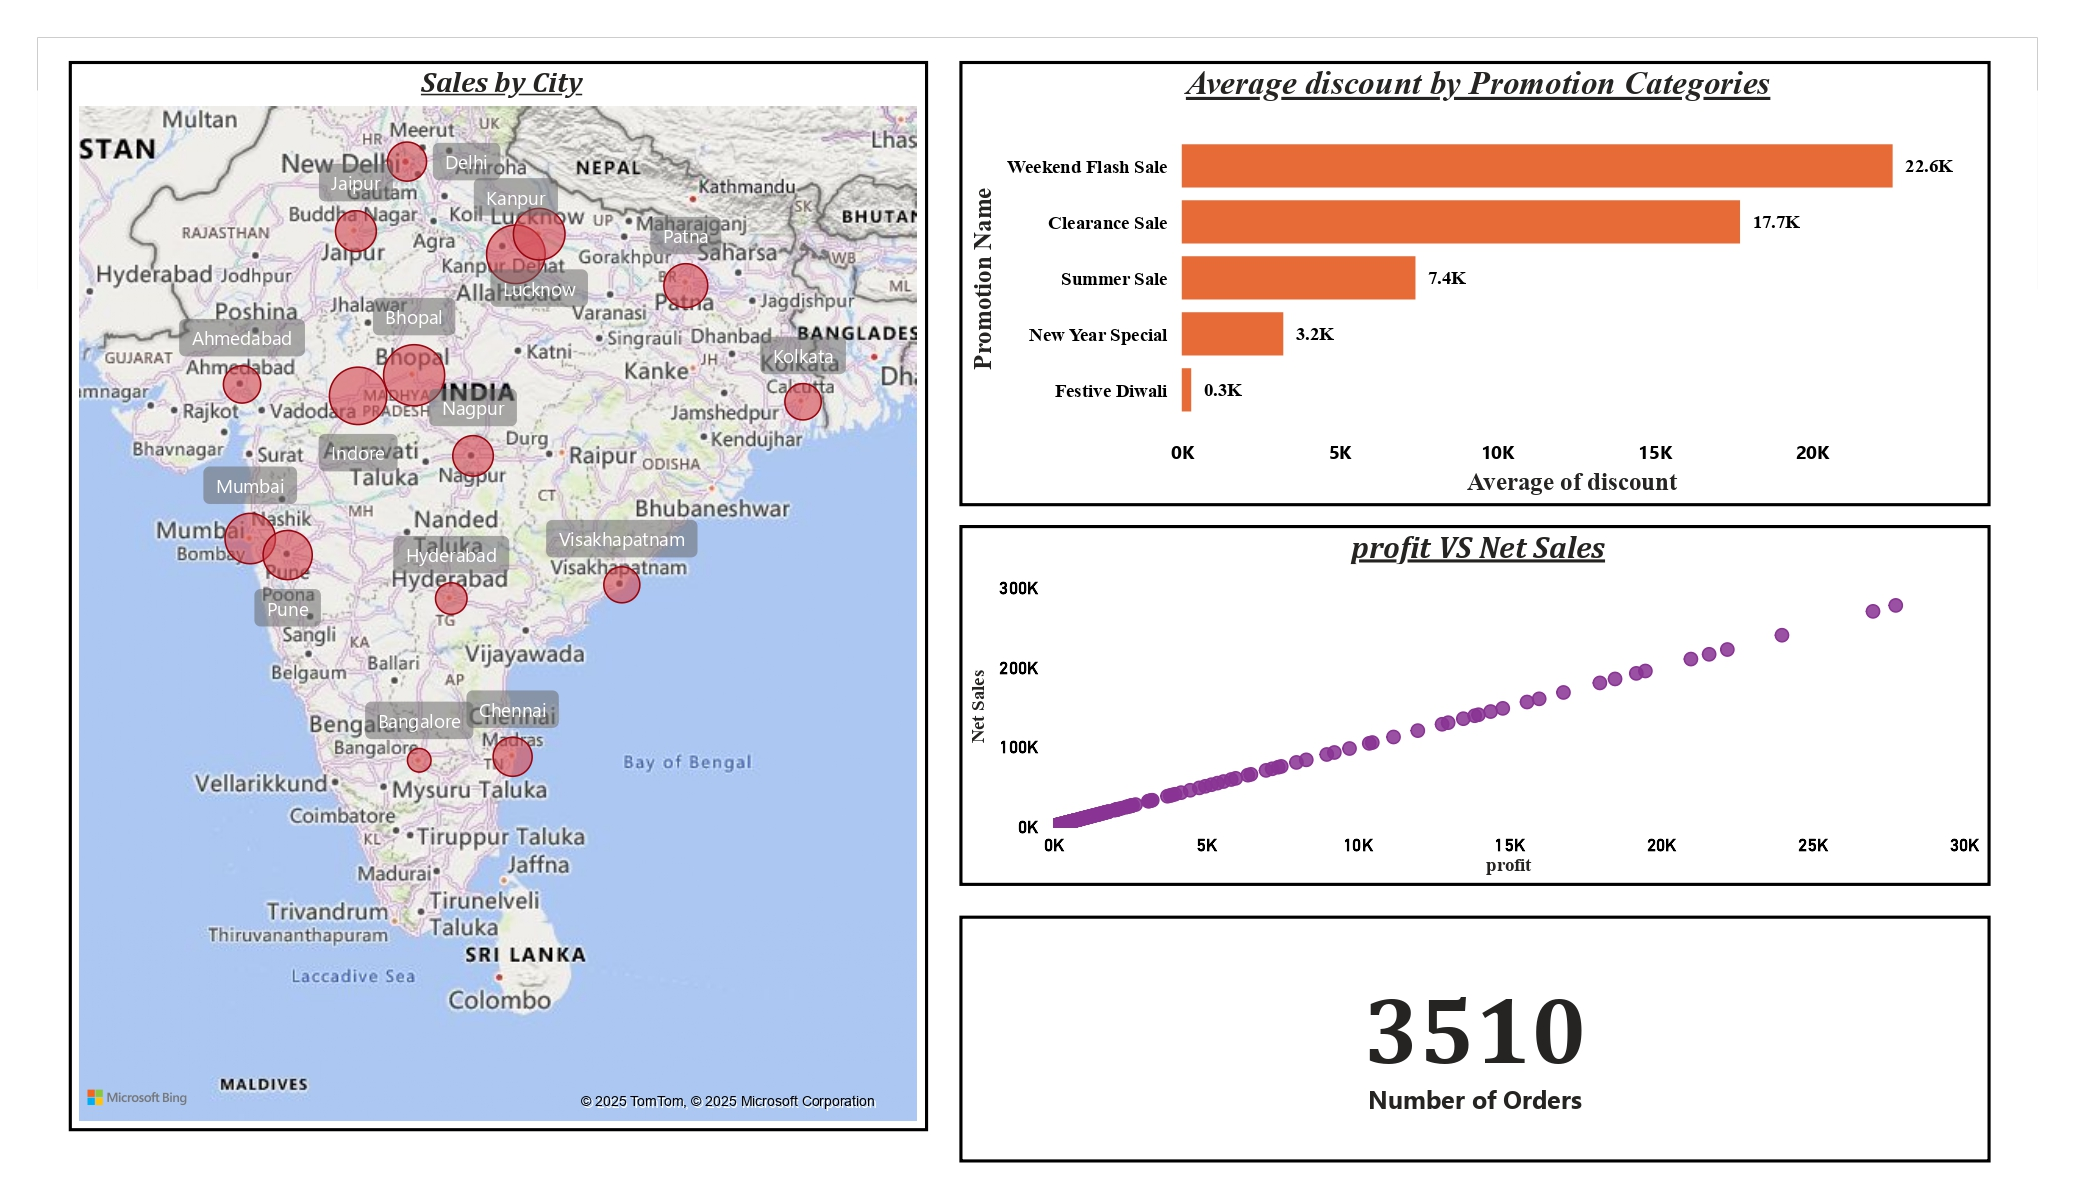

The page's visual inventory and layout, read from the dashboard file:
{"tool":"powerbi","page":{"name":"overview","canvas":[1280,720],"ordinal":0},"visuals":[{"type":"scatterChart","title":"profit VS Net Sales","fields":{"X":["Fact Table.profit"],"Y":["Fact Table. Net Sales"]},"box":[590,311.7,660,231.7],"z":0},{"type":"barChart","title":"Average discount by Promotion Categories","fields":{"Y":["Avg(Fact Table.discount)"],"Category":["Dim Promotion.Promotion Name"]},"box":[590,15,660,285],"z":1000},{"type":"map","title":" Sales by City","fields":{"Category":["Dim Customers.City"],"Size":["Sum(Fact Table. Net Sales)"]},"box":[20,15,550,685],"z":2000},{"type":"card","fields":{"Values":["Count(Fact Table.Order ID)"]},"box":[590,561.7,660,158.3],"z":3000}]}

Visuals, with their boxes in screenshot pixels (x1, y1, x2, y2):
"profit VS Net Sales" scatterChart: (953,518,1971,876)
"Average discount by Promotion Categories" barChart: (953,61,1971,500)
" Sales by City" map: (74,61,922,1117)
card - Count(Fact Table.Order ID): (953,904,1971,1148)
